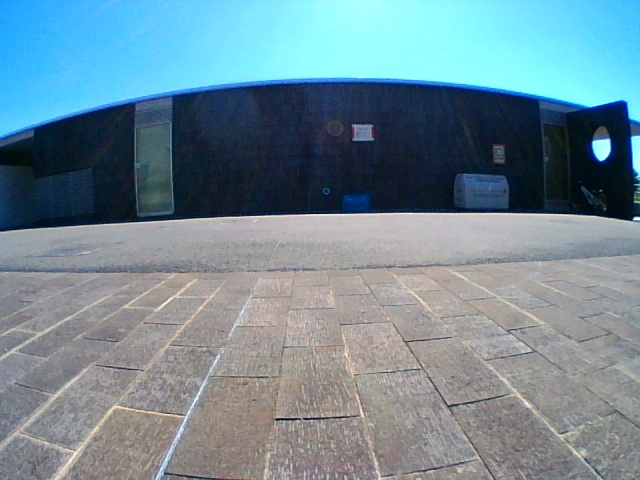blue_box: (343, 194, 368, 212)
